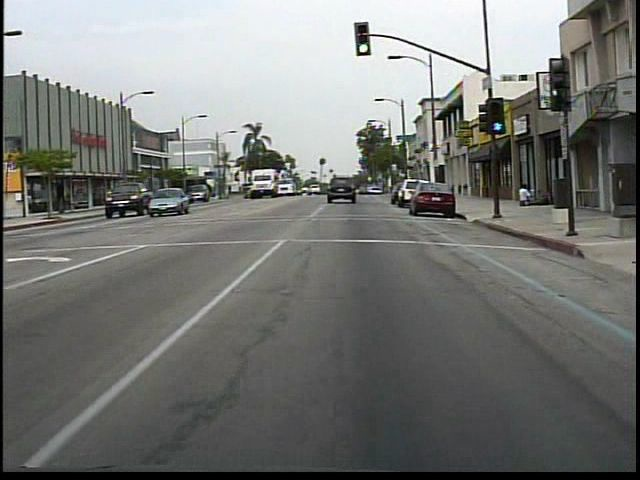person: (514, 183, 531, 208)
